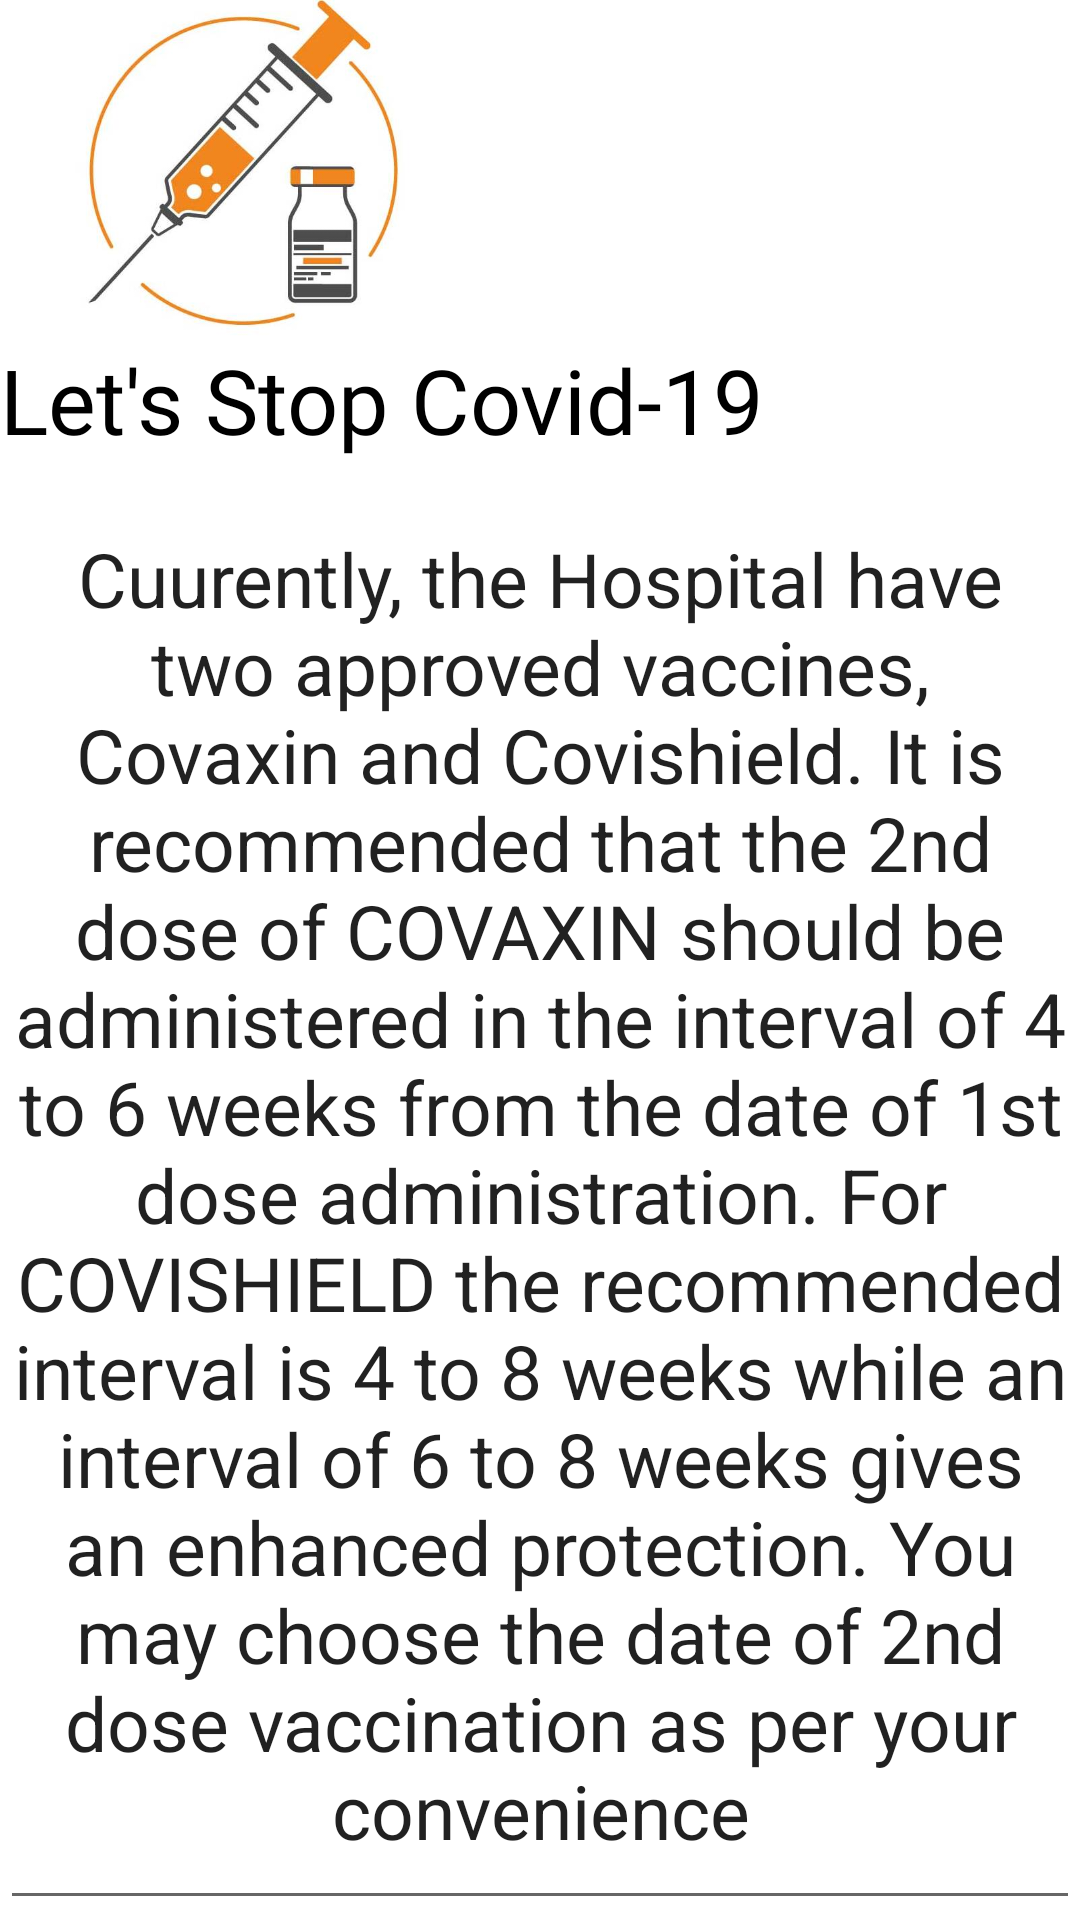

Locate icon controls on the screen. Image size 1080×1920, boxes as detection(x1, y1, x2, y2).
vacbacrop: detection(89, 0, 399, 326)
